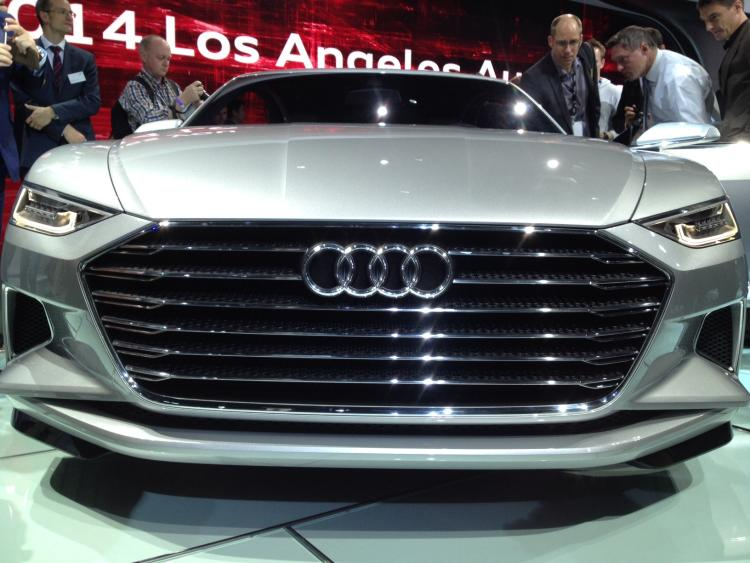audi: (285, 238, 465, 307)
